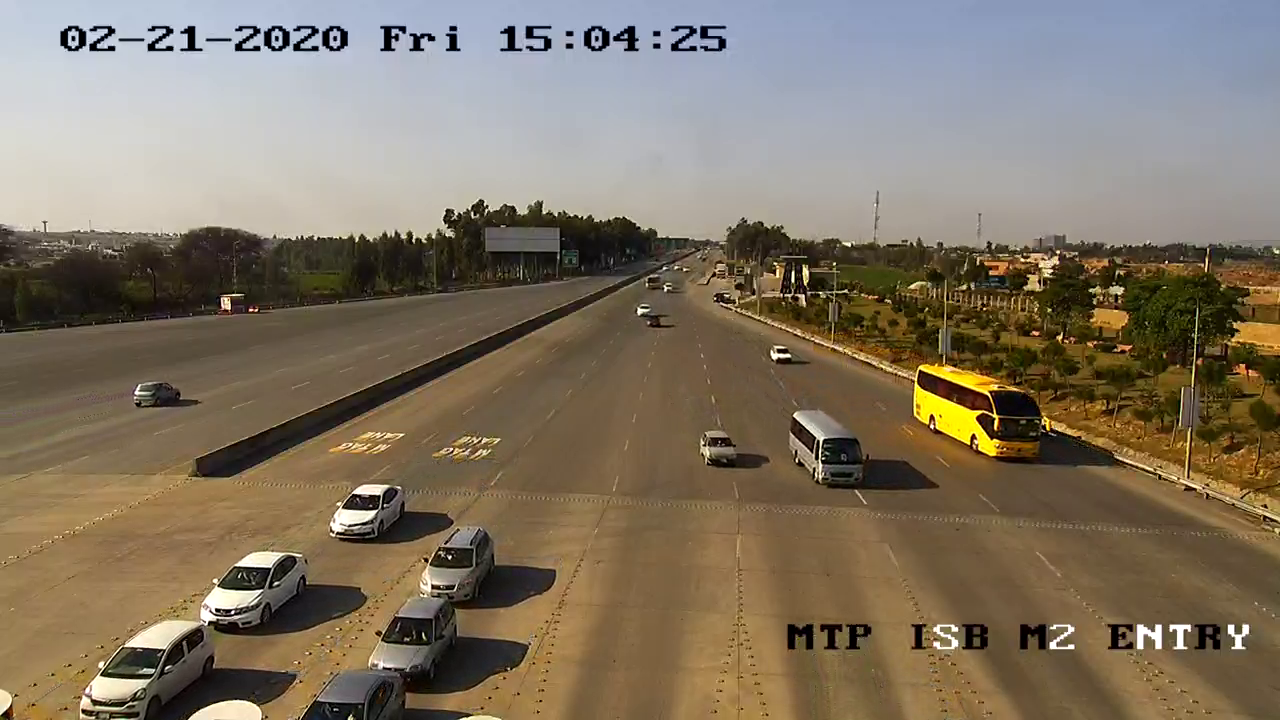f1: (69, 611, 218, 720), (192, 541, 314, 631), (362, 594, 462, 689), (409, 517, 500, 604), (322, 477, 412, 549), (689, 418, 748, 477)
f3: (768, 398, 873, 497)
f4: (910, 354, 1050, 474)
